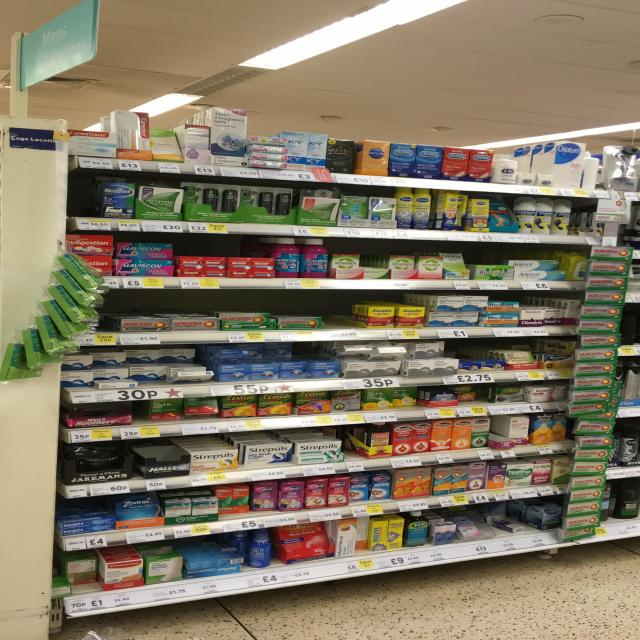void: (71, 183, 99, 215)
